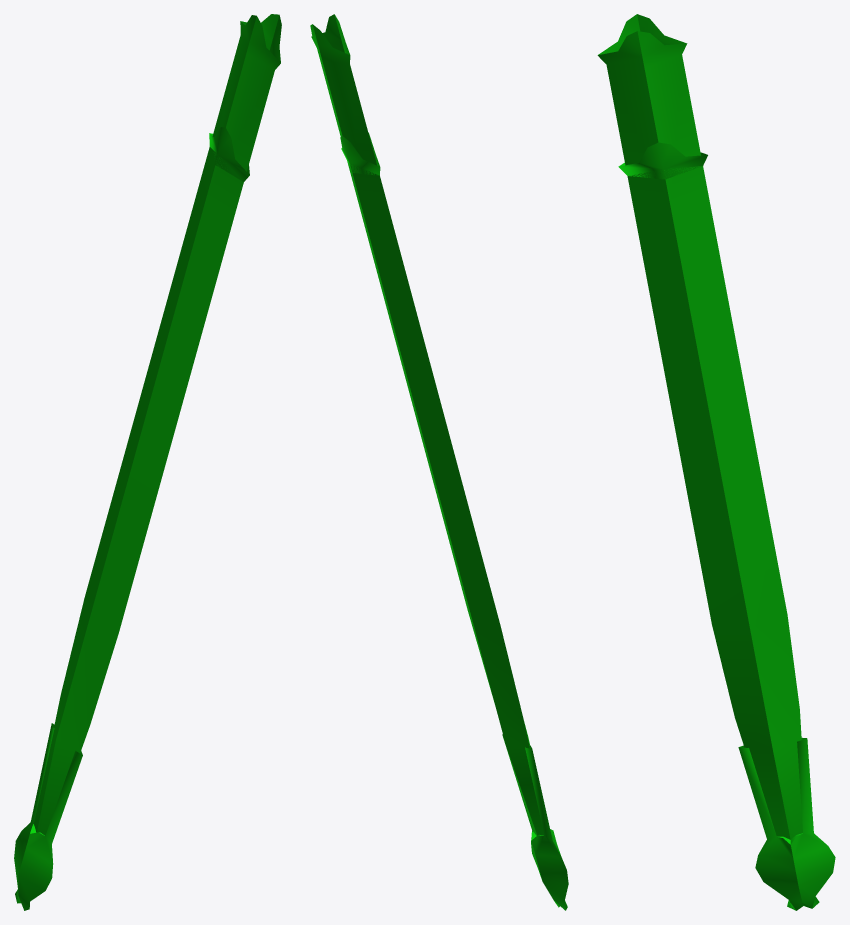
The model's file is celt_scabbard_b.dae.
3 views of the same model, side by side, from view 1: azimuth 30°, elevation 25°; view 2: azimuth 210°, elevation 25°; view 3: azimuth 270°, elevation 25° (orthographic). The views are drawn at different scales.
Parts seen in each view (by area): view 1: Celtic_Scabbard_B; view 2: Celtic_Scabbard_B; view 3: Celtic_Scabbard_B.
Boxes of the visible parts, <box> form: Celtic_Scabbard_B: <box>14,14,281,910</box>; Celtic_Scabbard_B: <box>310,14,568,910</box>; Celtic_Scabbard_B: <box>597,14,835,910</box>.
Size of the model in its own units: 0.4304 by 0.4423 by 2.01.
